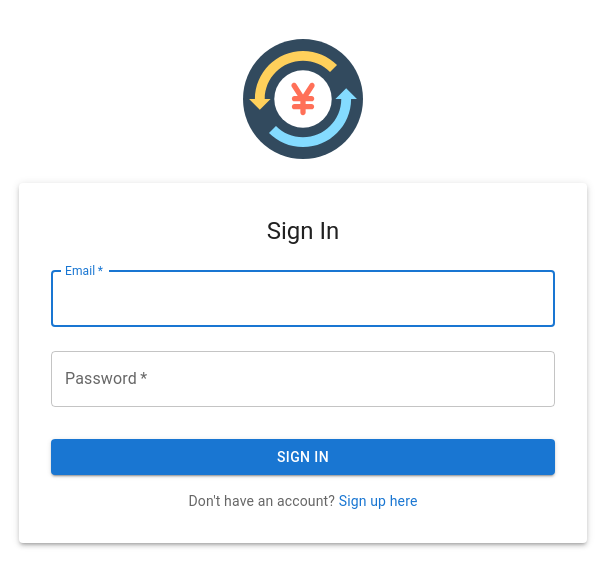
it: LoginPage › clears field error when user starts typing
Click the button "Sign In" at (303, 457), box top-left (51, 439), bottom-right (555, 475)
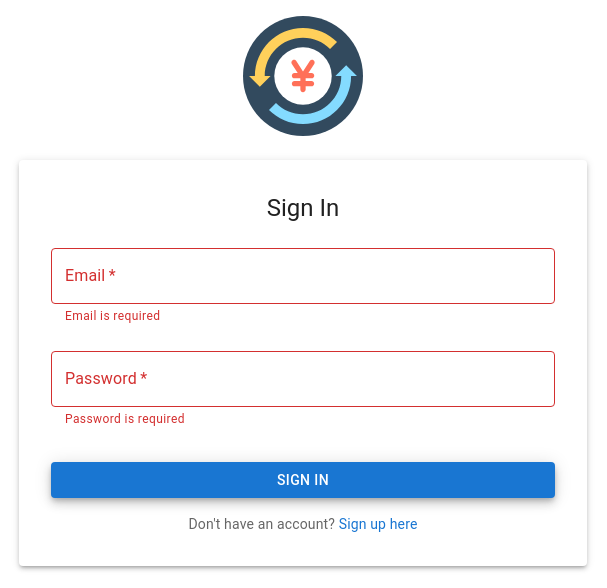
Check: the text "Email is required" is shown, box top-left (65, 309), bottom-right (160, 323)
Start typing — error should clear
Type "a" into the field labelled "Email *" at (303, 276), box top-left (51, 248), bottom-right (555, 304)
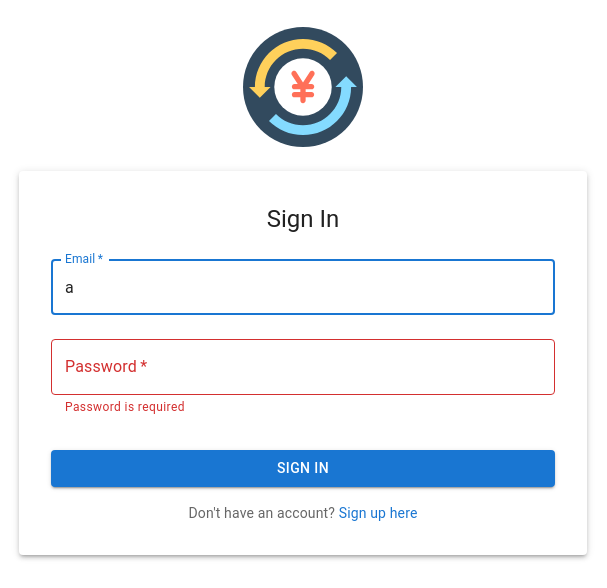
Check: the text "Email is required" is gone
